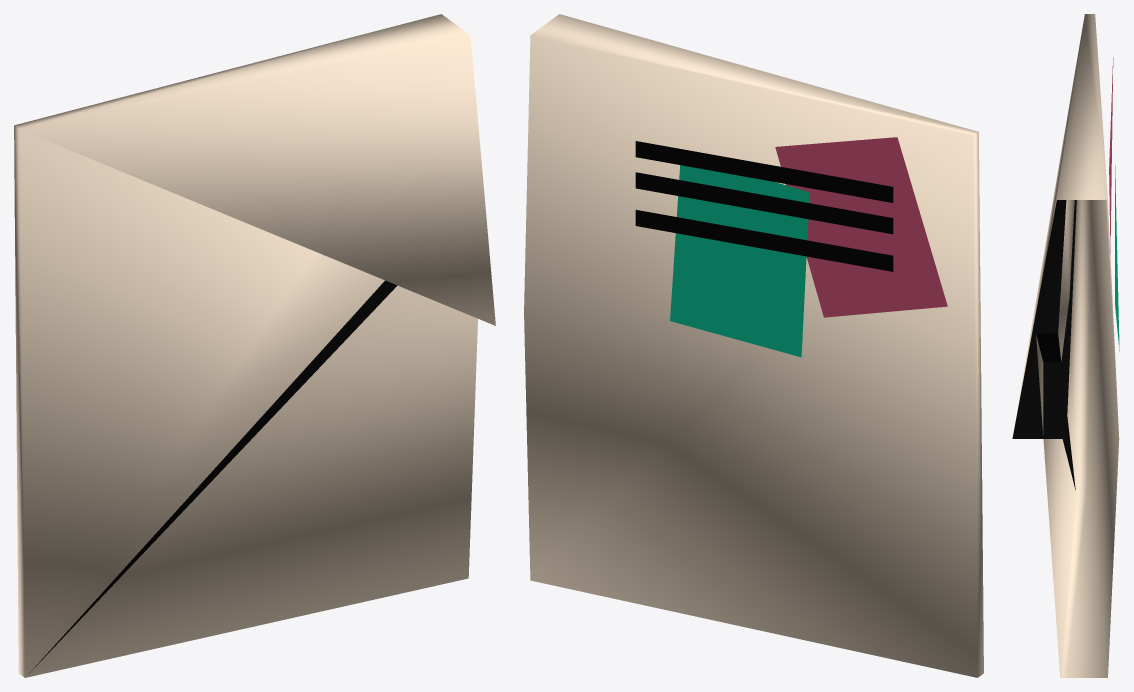
File: letter.glb
3 views of the same model, side by side, from view 1: azimuth 30°, elevation 25°; view 2: azimuth 150°, elevation 25°; view 3: azimuth 270°, elevation 25° (orthographic). The views are drawn at different scales.
Visible parts, largest first — view 1: Cube; view 2: Cube, Plane; view 3: Cube, Plane.
Part boxes in pixels (bbox=[...]): Cube: bbox=[14, 14, 495, 677]; Cube: bbox=[524, 14, 983, 677]; Plane: bbox=[635, 137, 947, 357]; Cube: bbox=[1012, 14, 1119, 677]; Plane: bbox=[1109, 57, 1119, 351].
Bounding box in the file's own units: 1.02 × 1.22 × 0.2474.
